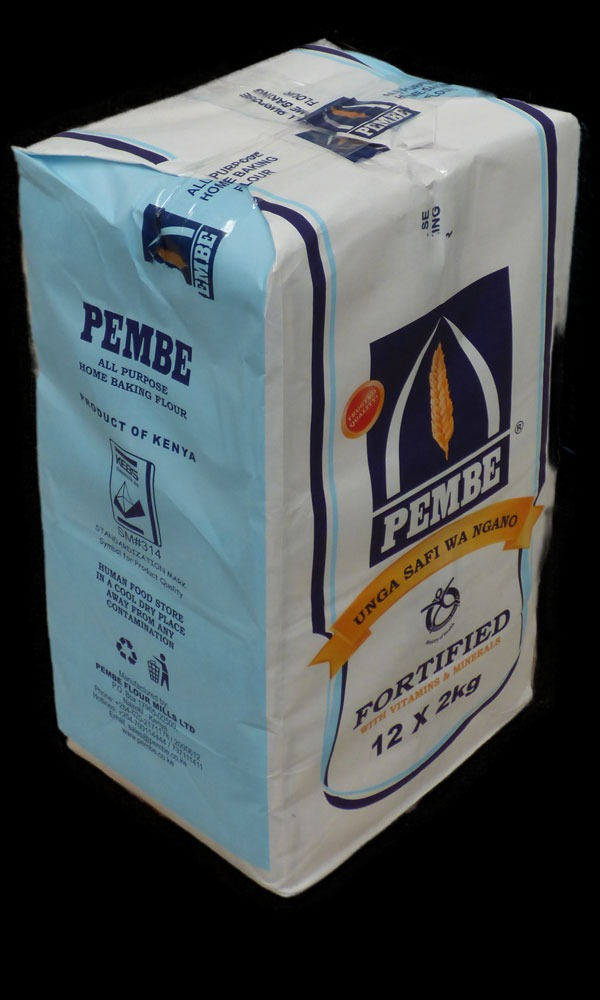wheat_flour_blue_label: (14, 39, 578, 872)
